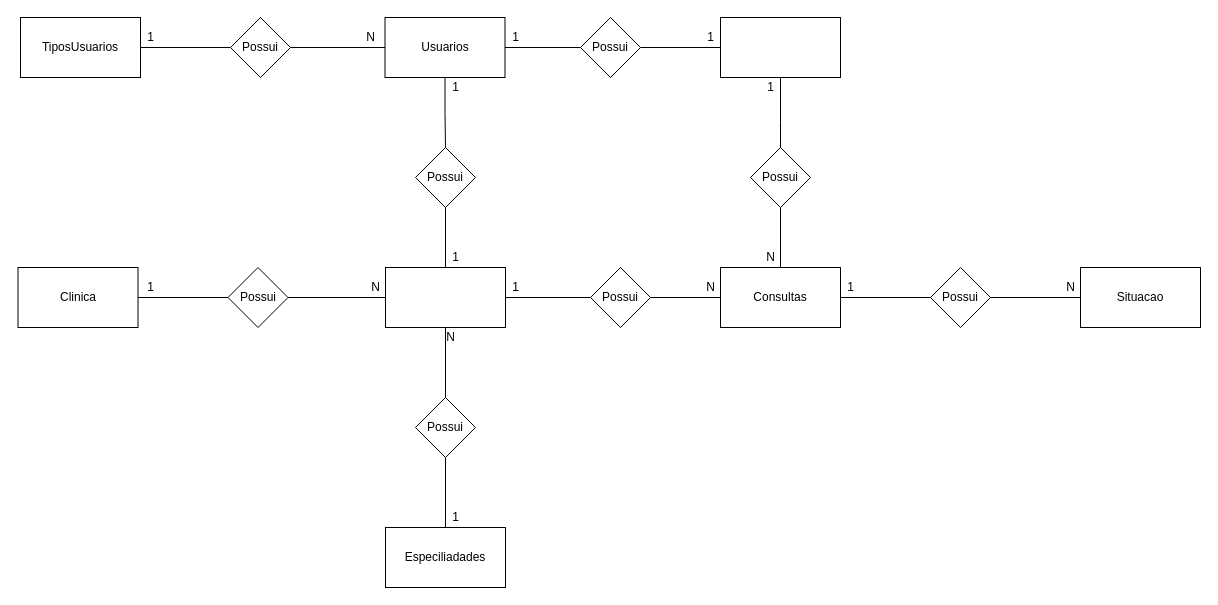
Image size: 1218x605. Some labels were removed from this diagram. The shapes that lost their labels are listed below. From the top down, each one's centre as x and y in pixels, then its label:
At (x=780, y=47): "Pacientes".
At (x=445, y=297): "Medico".
